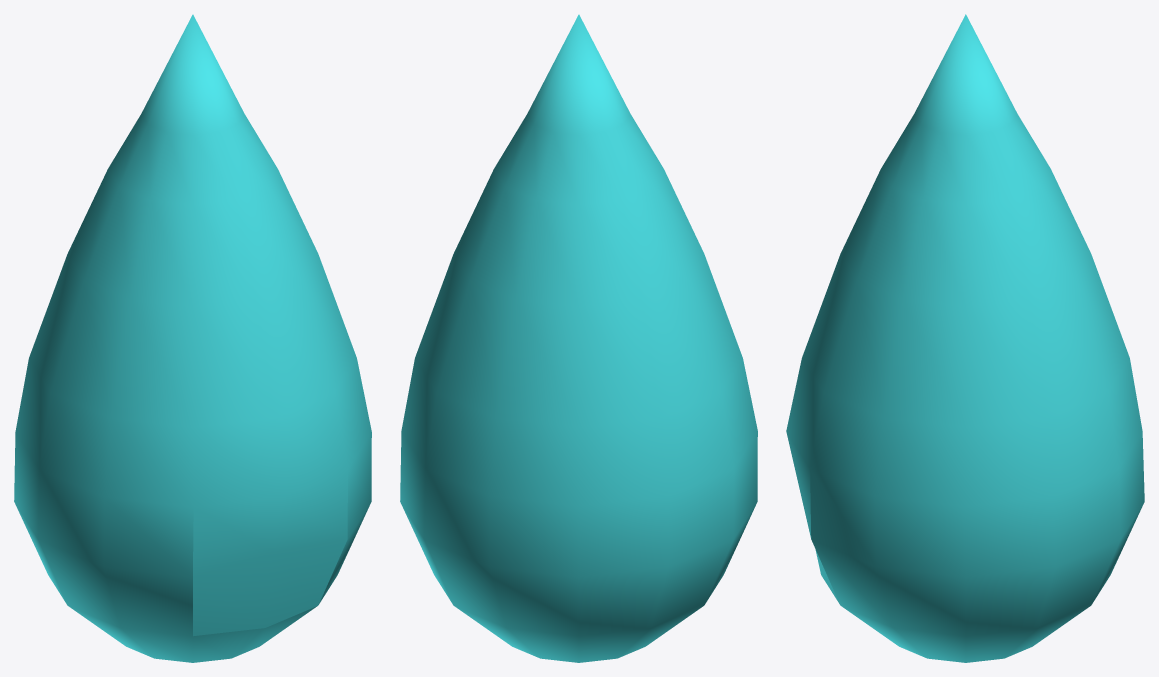
Rendered from drop.fbx.
The picture shows the model from 3 angles, left to right: view 1: azimuth 30°, elevation 25°; view 2: azimuth 150°, elevation 25°; view 3: azimuth 270°, elevation 25°; orthographic projection.
Visible parts, largest first — view 1: polySurface1; view 2: polySurface1; view 3: polySurface1.
Boxes of the visible parts, x1,y1,x2,y2 form: polySurface1: (14,14,371,662); polySurface1: (400,14,757,662); polySurface1: (786,14,1144,662).
Size of the model in its own units: 39.18 by 76.88 by 39.29.
